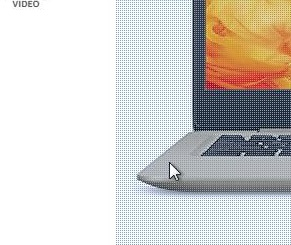cursor: (167, 160, 182, 182)
